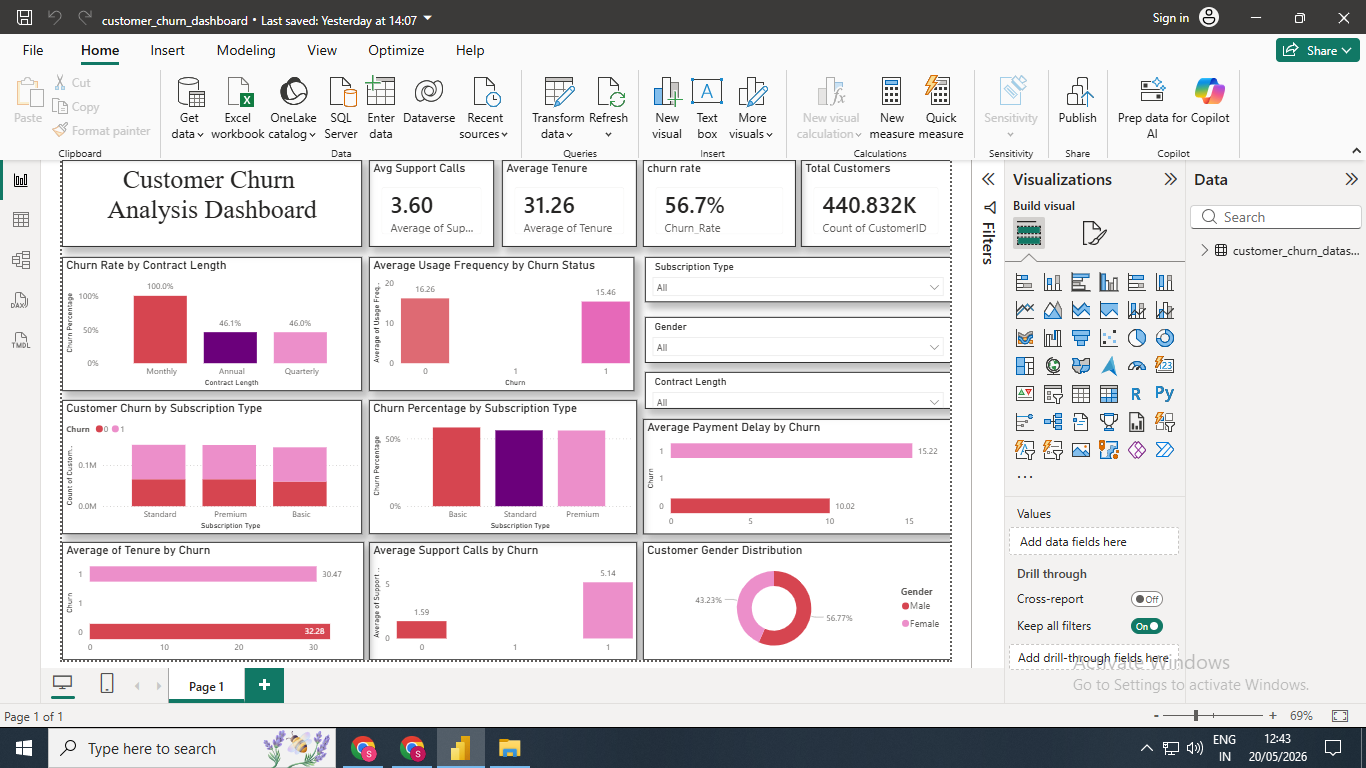

What the dashboard file says about the page in this screenshot:
{"tool":"powerbi","page":{"name":"Page 1","canvas":[1280,720],"ordinal":0},"visuals":[{"type":"cardVisual","title":"Average Tenure","fields":{"Data":["Avg(customer_churn_dataset_training_master.Tenure)"]},"box":[633.6,0,194.4,125.3],"z":0},{"type":"cardVisual","title":"Total Customers","fields":{"Data":["CountNonNull(customer_churn_dataset_training_master.CustomerID)"]},"box":[1064.2,0,216,125.3],"z":1000},{"type":"cardVisual","title":"churn rate","fields":{"Data":["customer_churn_dataset_training_master.Churn_Rate"]},"box":[836.6,0,220.3,125.3],"z":2000},{"type":"cardVisual","title":"Avg Support Calls","fields":{"Data":["Avg(customer_churn_dataset_training_master.Support Calls)"]},"box":[442.1,0,180,125.3],"z":3000},{"type":"columnChart","title":"Churn Rate by Contract Length","fields":{"Category":["customer_churn_dataset_training_master.Contract Length"],"Y":["customer_churn_dataset_training_master.Churn Percentage"]},"box":[0,139.7,432,193],"z":4000},{"type":"clusteredColumnChart","title":"Average Support Calls by Churn","fields":{"Category":["customer_churn_dataset_training_master.Churn"],"Y":["Avg(customer_churn_dataset_training_master.Support Calls)"]},"box":[442.1,550.1,385.9,169.9],"z":5000},{"type":"clusteredBarChart","title":"Average  Payment Delay by Churn","fields":{"Category":["customer_churn_dataset_training_master.Churn"],"Y":["Avg(customer_churn_dataset_training_master.Payment Delay)"]},"box":[836.6,373,443.5,165.6],"z":6000},{"type":"columnChart","title":"Customer Churn by Subscription Type","fields":{"Category":["customer_churn_dataset_training_master.Subscription Type"],"Y":["CountNonNull(customer_churn_dataset_training_master.CustomerID)"],"Series":["customer_churn_dataset_training_master.Churn"]},"box":[0,345.6,432,193],"z":7000},{"type":"clusteredColumnChart","title":"Churn Percentage by Subscription Type","fields":{"Category":["customer_churn_dataset_training_master.Subscription Type"],"Y":["customer_churn_dataset_training_master.Churn Percentage"]},"box":[442.1,345.6,385.9,193],"z":8000},{"type":"donutChart","title":"Customer Gender Distribution","fields":{"Category":["customer_churn_dataset_training_master.Gender"],"Y":["CountNonNull(customer_churn_dataset_training_master.CustomerID)"]},"box":[836.6,550.1,443.5,169.9],"z":9000},{"type":"clusteredBarChart","fields":{"Category":["customer_churn_dataset_training_master.Churn"],"Y":["Avg(customer_churn_dataset_training_master.Tenure)"]},"box":[0,550.1,434.9,169.9],"z":10000},{"type":"columnChart","title":"Average Usage Frequency by Churn Status","fields":{"Category":["customer_churn_dataset_training_master.Churn"],"Y":["Avg(customer_churn_dataset_training_master.Usage Frequency)"]},"box":[442.1,139.7,381.6,193],"z":11000},{"type":"slicer","fields":{"Values":["customer_churn_dataset_training_master.Gender"]},"box":[839.5,226.1,440.6,66.2],"z":12000},{"type":"slicer","fields":{"Values":["customer_churn_dataset_training_master.Subscription Type"]},"box":[839.5,139.7,440.6,64.8],"z":13000},{"type":"slicer","fields":{"Values":["customer_churn_dataset_training_master.Contract Length"]},"box":[839.5,305.3,440.6,53.3],"z":14000},{"type":"textbox","box":[0,0,432,125.3],"z":15000}]}

Visuals, with their boxes on the page's 1280x720 design canvas (x1, y1, x2, y2). These are canvas units, not pixel positions in the 1366x768 screenshot, which may show the page scaled, cropped or inside an application window:
"Average Tenure" cardVisual: region(634, 0, 828, 125)
"Total Customers" cardVisual: region(1064, 0, 1280, 125)
"churn rate" cardVisual: region(837, 0, 1057, 125)
"Avg Support Calls" cardVisual: region(442, 0, 622, 125)
"Churn Rate by Contract Length" columnChart: region(0, 140, 432, 333)
"Average Support Calls by Churn" clusteredColumnChart: region(442, 550, 828, 720)
"Average  Payment Delay by Churn" clusteredBarChart: region(837, 373, 1280, 539)
"Customer Churn by Subscription Type" columnChart: region(0, 346, 432, 539)
"Churn Percentage by Subscription Type" clusteredColumnChart: region(442, 346, 828, 539)
"Customer Gender Distribution" donutChart: region(837, 550, 1280, 720)
clusteredBarChart - customer_churn_dataset_training_master.Churn x Avg(customer_churn_dataset_training_master.Tenure): region(0, 550, 435, 720)
"Average Usage Frequency by Churn Status" columnChart: region(442, 140, 824, 333)
slicer - customer_churn_dataset_training_master.Gender: region(840, 226, 1280, 292)
slicer - customer_churn_dataset_training_master.Subscription Type: region(840, 140, 1280, 204)
slicer - customer_churn_dataset_training_master.Contract Length: region(840, 305, 1280, 359)
textbox: region(0, 0, 432, 125)
